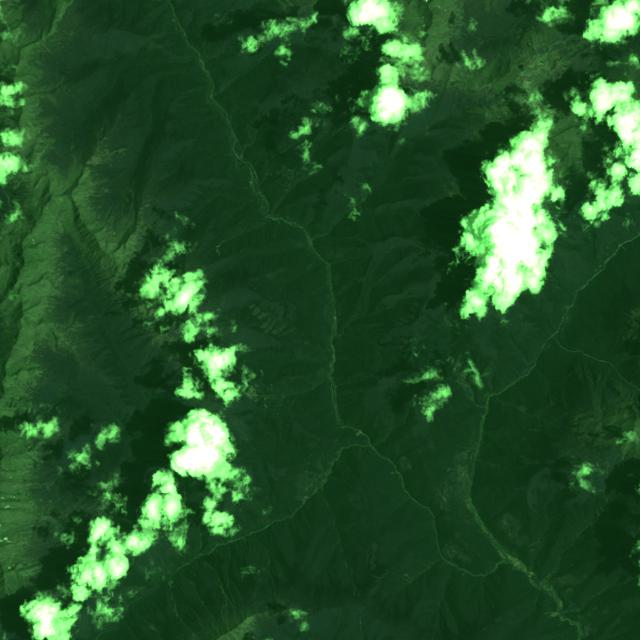landslides: (517, 349, 531, 368), (41, 39, 54, 55), (379, 118, 390, 129), (399, 575, 411, 584)
